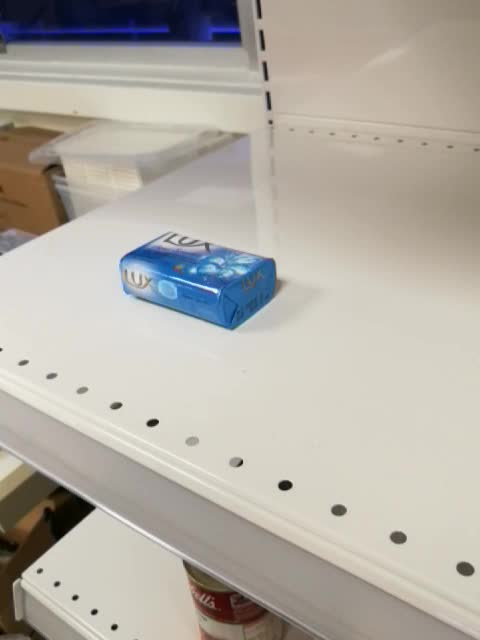soap: (119, 230, 279, 331)
